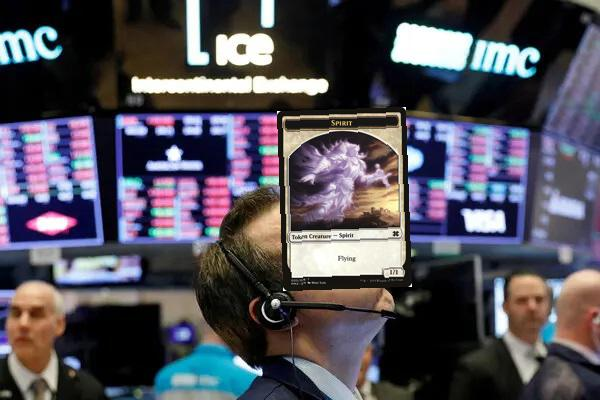mtgCard: (276, 106, 413, 292)
